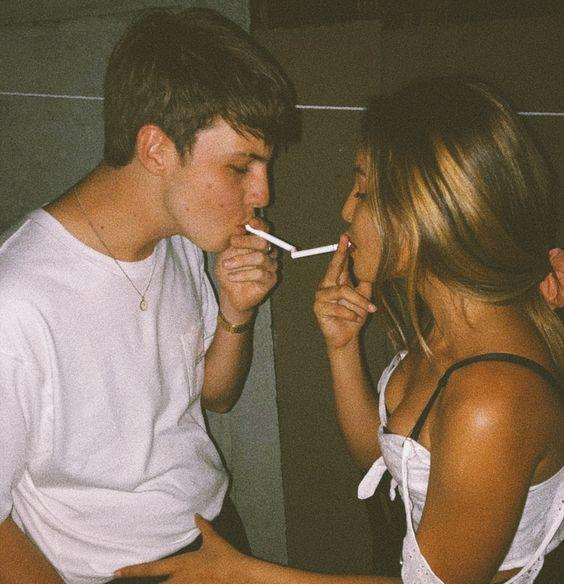cigarette: (245, 224, 297, 253), (291, 241, 351, 259)
